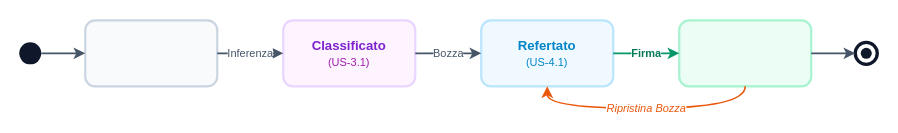
Image size: 898x133. Some labels were removed from this diagram. Each missing label, with the centre of its shape:
"Caricato (US-2.1)" goes at point (151, 53).
"Validato (US-5.1)" goes at point (745, 53).
